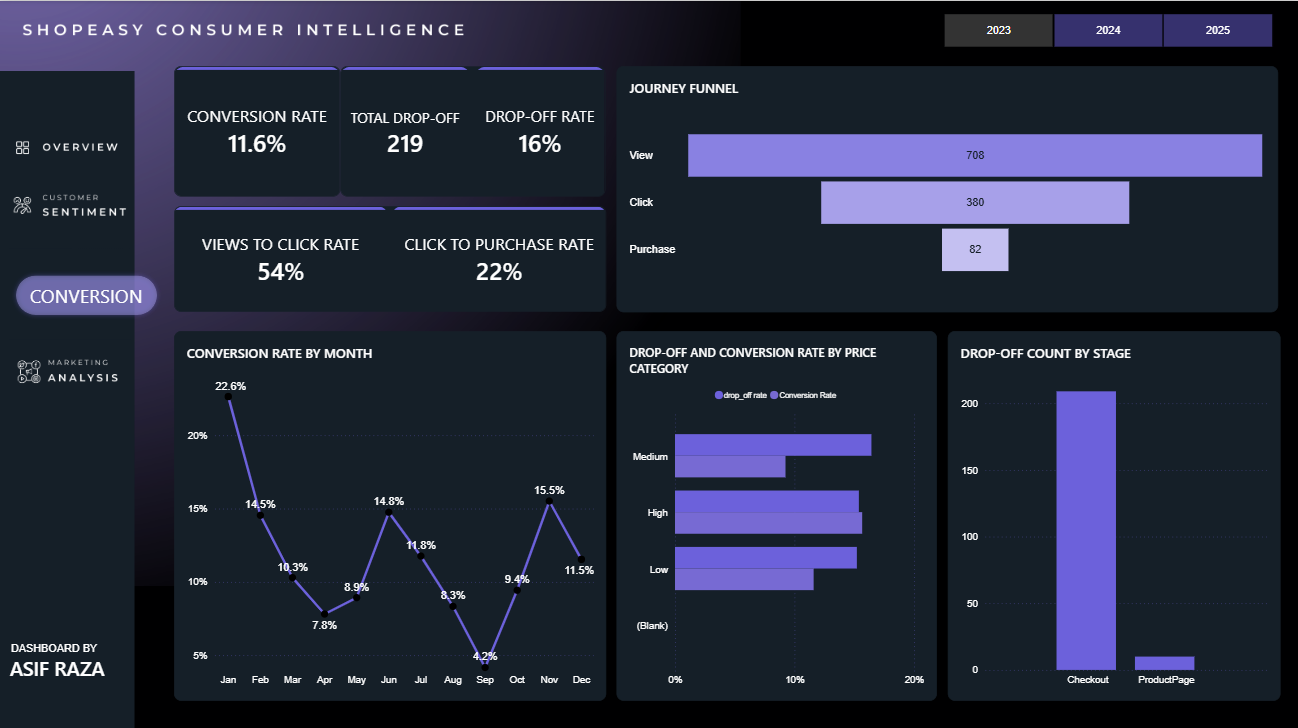

The dashboard page shown, as its layout file describes it:
{"tool":"powerbi","page":{"name":"Conversion Analysis","canvas":[1600,900],"ordinal":2},"visuals":[{"type":"cardVisual","fields":{"Data":["calculations.Conversion Rate"]},"box":[214.8,80.3,204.9,160.7],"z":0},{"type":"cardVisual","fields":{"Data":["calculations.Total Dropoffs","calculations.drop_off rate"]},"box":[420.2,79.8,326.7,161],"z":1000},{"type":"columnChart","title":"DROP-OFF COUNT BY STAGE","fields":{"Category":["customer_journey_cleaned.Stage"],"Y":["CountNonNull(customer_journey_cleaned.JourneyID)"]},"box":[1167.2,406.4,409.5,455.5],"z":2000},{"type":"clusteredBarChart","title":"DROP-OFF AND CONVERSION RATE BY PRICE CATEGORY","fields":{"Category":["products.Price Category"],"Y":["calculations.drop_off rate","calculations.Conversion Rate"]},"box":[760.7,406.4,394.2,455.5],"z":3000},{"type":"cardVisual","fields":{"Data":["calculations.View to Click Rate","calculations.Click to Purchase Rate"]},"box":[214.7,253.1,532.2,130.4],"z":4000},{"type":"stackedhorizontalfunnelEC4E2CF18990EF8267C380787C9A6BC9","title":"JOURNEY FUNNEL","fields":{"col_0":["customer_journey_cleaned.Action"],"col_1":["CountNonNull(customer_journey_cleaned.JourneyID)"]},"box":[760.7,80.3,814.8,303.3],"z":5000},{"type":"lineChart","title":"CONVERSION RATE BY MONTH","fields":{"Category":["Calendar.MonthNameShort"],"Y":["calculations.Conversion Rate"]},"box":[214.7,406.4,532.2,455.5],"z":6000},{"type":"slicer","fields":{"Values":["Calendar.Date.Variation.Date Hierarchy.Year"]},"box":[1142.6,13.1,442.6,44.3],"z":7000},{"type":"shape","box":[11.7,305,150,111.7],"z":8000},{"type":"shape","box":[0,316.7,215,90],"z":9000},{"type":"pageNavigator","box":[0,131.7,183.3,100],"z":10000},{"type":"pageNavigator","box":[0,205,183.3,100],"z":11000},{"type":"pageNavigator","box":[0,400,183.3,100],"z":12000},{"type":"textbox","box":[0,789.9,182.5,72.1],"z":13000}]}

Visuals, with their boxes in screenshot pixels (x1, y1, x2, y2), scaled from the page's 1600x900 canvas onto the 1298x728 screenshot:
cardVisual - calculations.Conversion Rate: (174, 65, 340, 195)
cardVisual - calculations.Total Dropoffs x calculations.drop_off rate: (341, 65, 606, 195)
"DROP-OFF COUNT BY STAGE" columnChart: (947, 329, 1279, 697)
"DROP-OFF AND CONVERSION RATE BY PRICE CATEGORY" clusteredBarChart: (617, 329, 937, 697)
cardVisual - calculations.View to Click Rate x calculations.Click to Purchase Rate: (174, 205, 606, 310)
"JOURNEY FUNNEL" stackedhorizontalfunnelEC4E2CF18990EF8267C380787C9A6BC9: (617, 65, 1278, 310)
"CONVERSION RATE BY MONTH" lineChart: (174, 329, 606, 697)
slicer - Calendar.Date.Variation.Date Hierarchy.Year: (927, 11, 1286, 46)
shape: (9, 247, 131, 337)
shape: (0, 256, 174, 329)
pageNavigator: (0, 107, 149, 187)
pageNavigator: (0, 166, 149, 247)
pageNavigator: (0, 324, 149, 404)
textbox: (0, 639, 148, 697)
